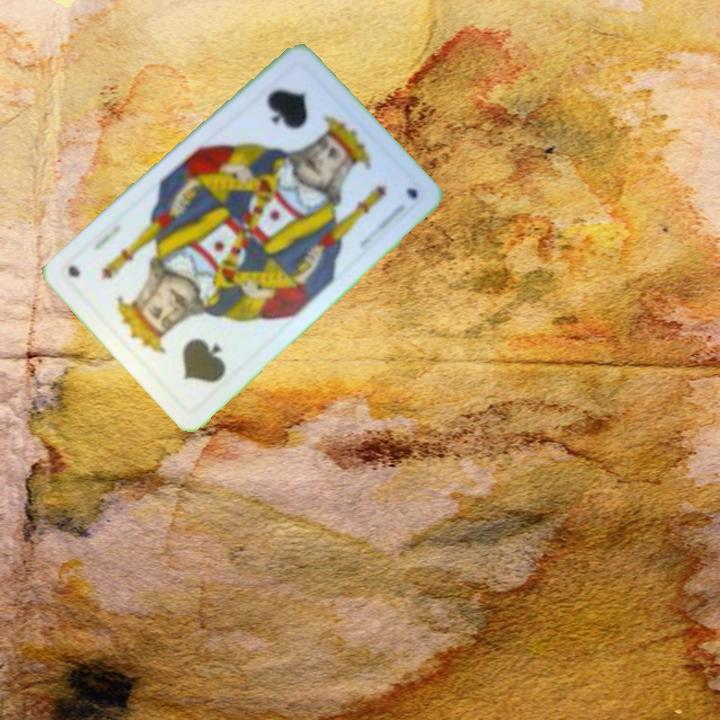s_k.png: (123, 285, 252, 415), (232, 56, 360, 185)
